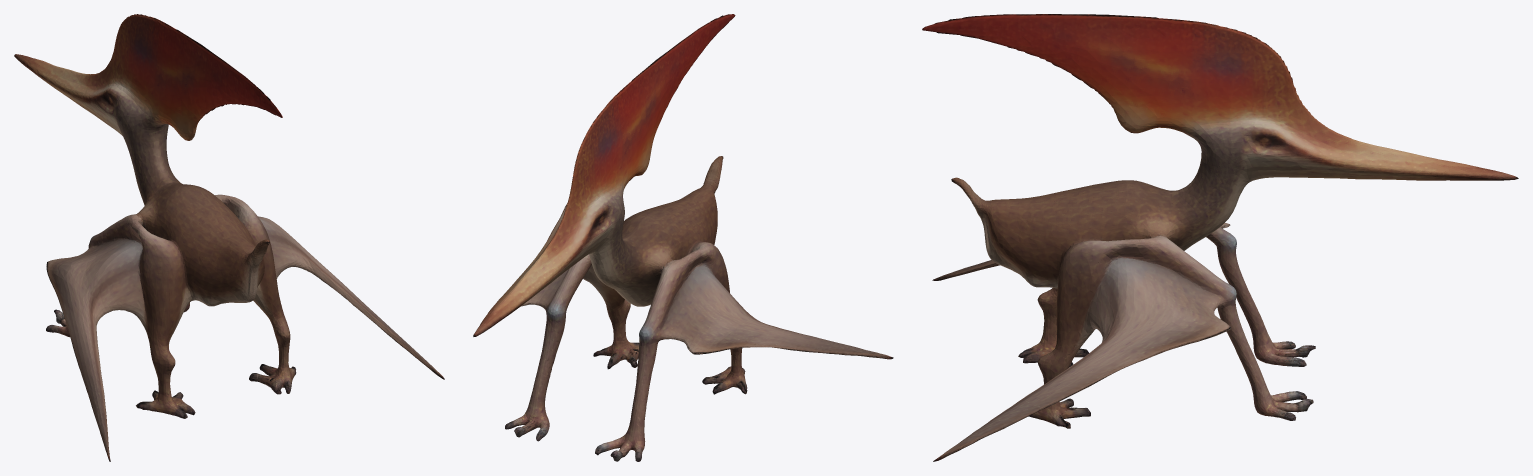
3 views of the same model, side by side, from view 1: azimuth 30°, elevation 25°; view 2: azimuth 150°, elevation 25°; view 3: azimuth 270°, elevation 25° (orthographic). The views are drawn at different scales.
Visible parts, largest first — view 1: world; view 2: world; view 3: world.
Boxes of the visible parts, x1,y1,x2,y2 form: world: [14, 14, 444, 461]; world: [473, 14, 893, 461]; world: [922, 14, 1518, 461].
Size of the model in its own units: 0.5773 by 0.5523 by 0.8004.
Materials: 1 (1 with a texture image).
